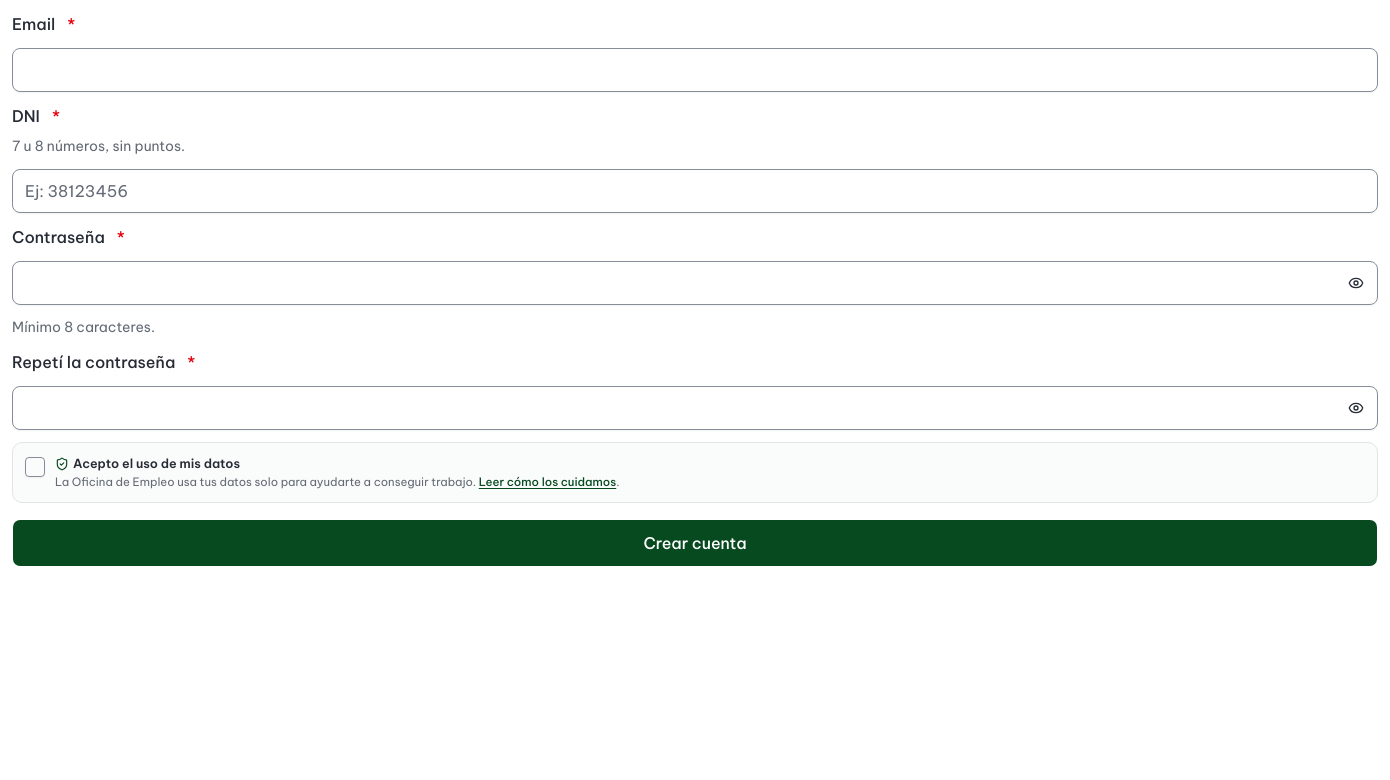
Test case: replaces the form with 'Revisá tu correo' and the email when the account must be activated
Step 1. Type "persona@ejemplo.com" into the field labelled "Email *" → x=695, y=70, box [12,48,1378,92]
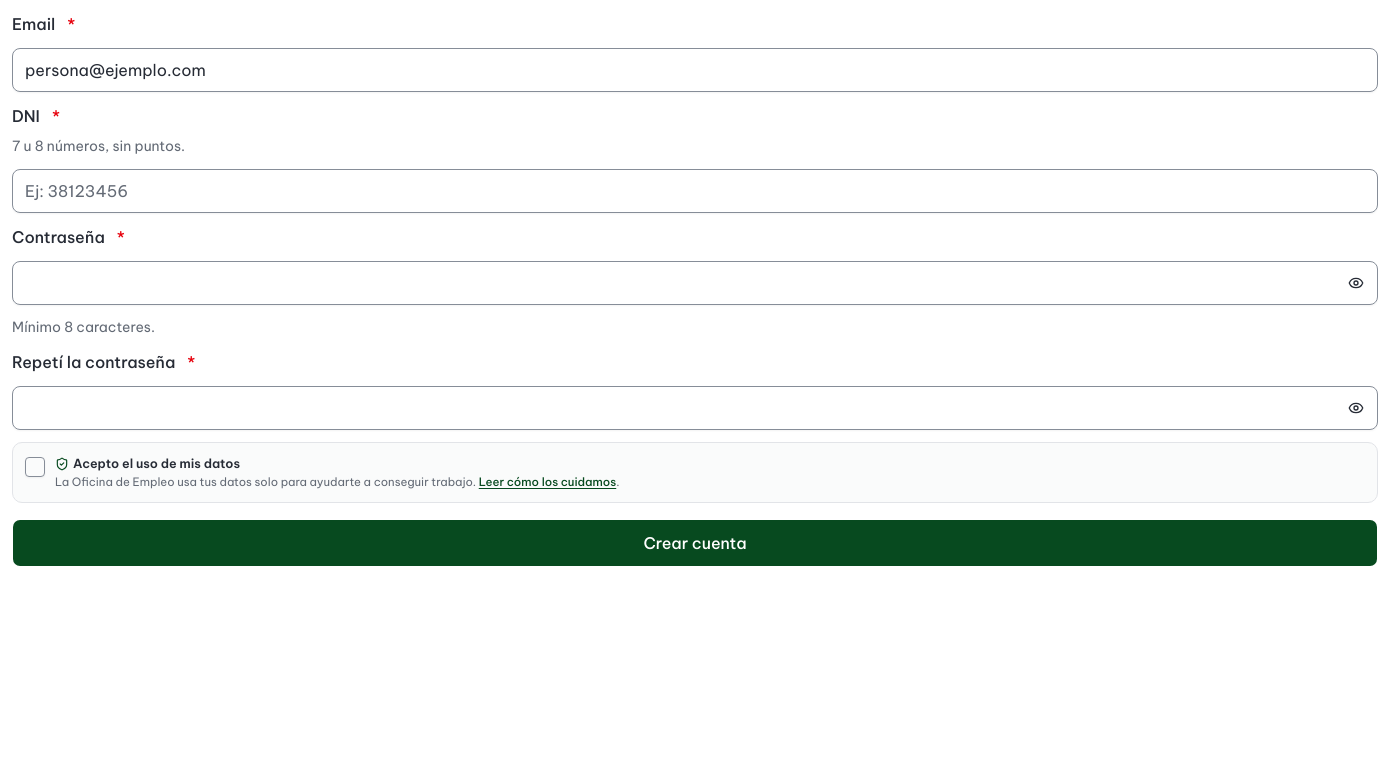
Step 2. Type "38123456" into the field labelled "DNI *" → x=695, y=191, box [12,169,1378,213]
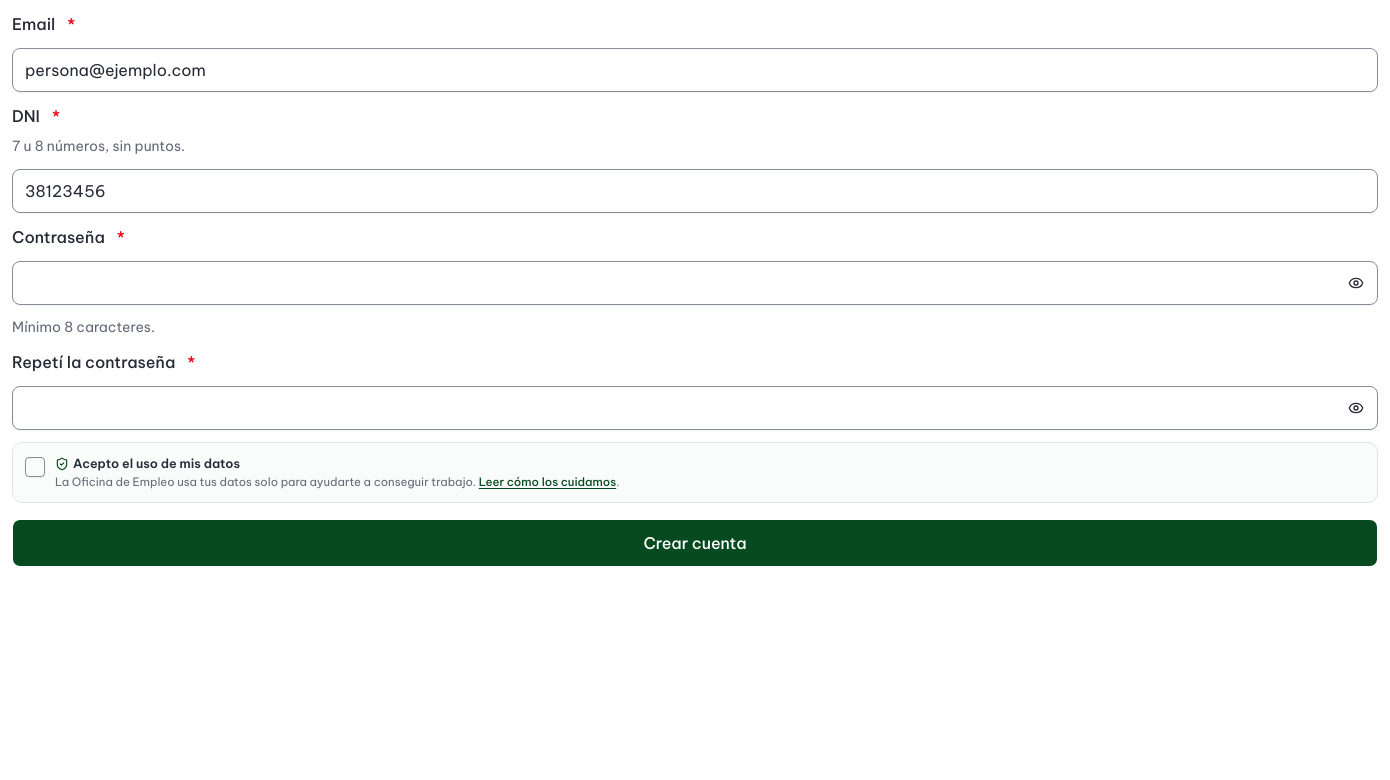
Step 3. Type "12345678" into the password field labelled "Contraseña *" → x=695, y=283, box [12,261,1378,305]
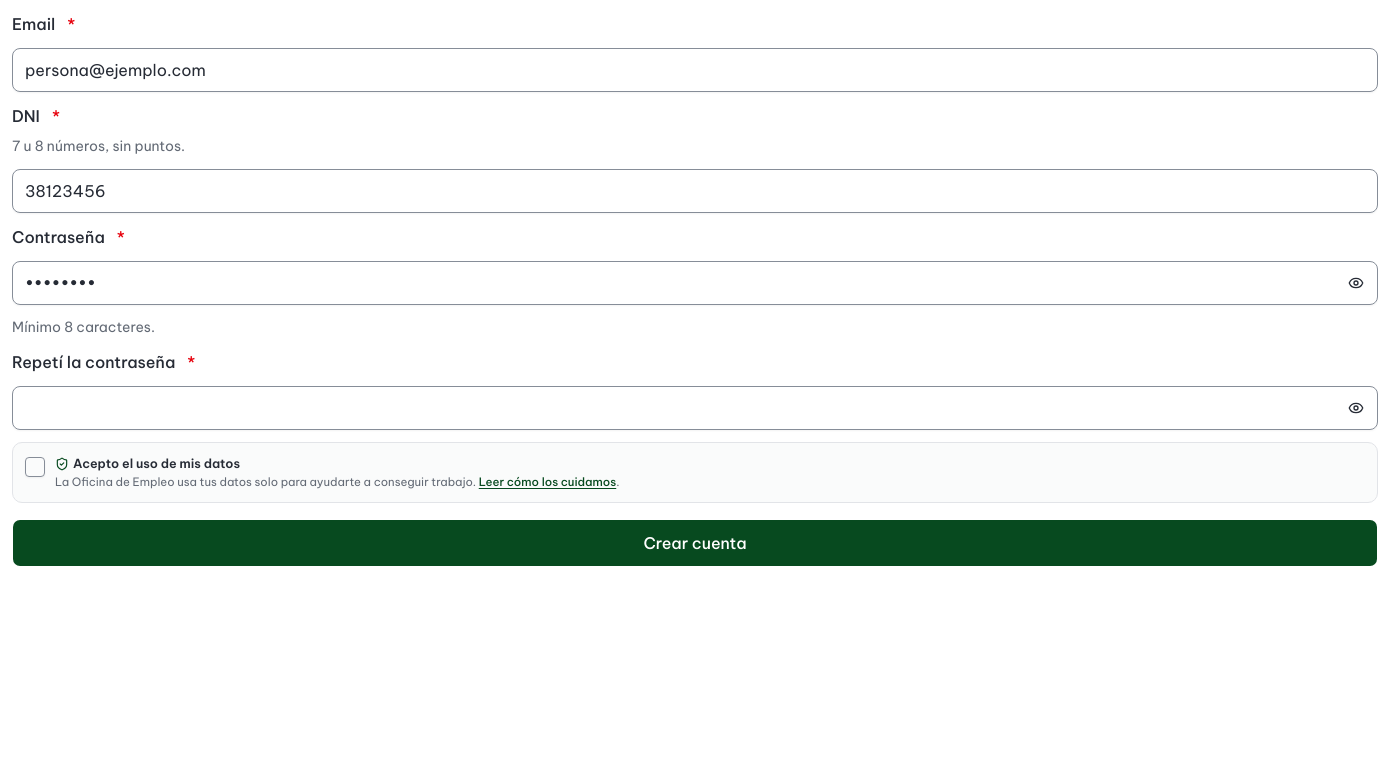
Step 4. Type "12345678" into the password field labelled "Repetí la contraseña *" → x=695, y=408, box [12,386,1378,430]
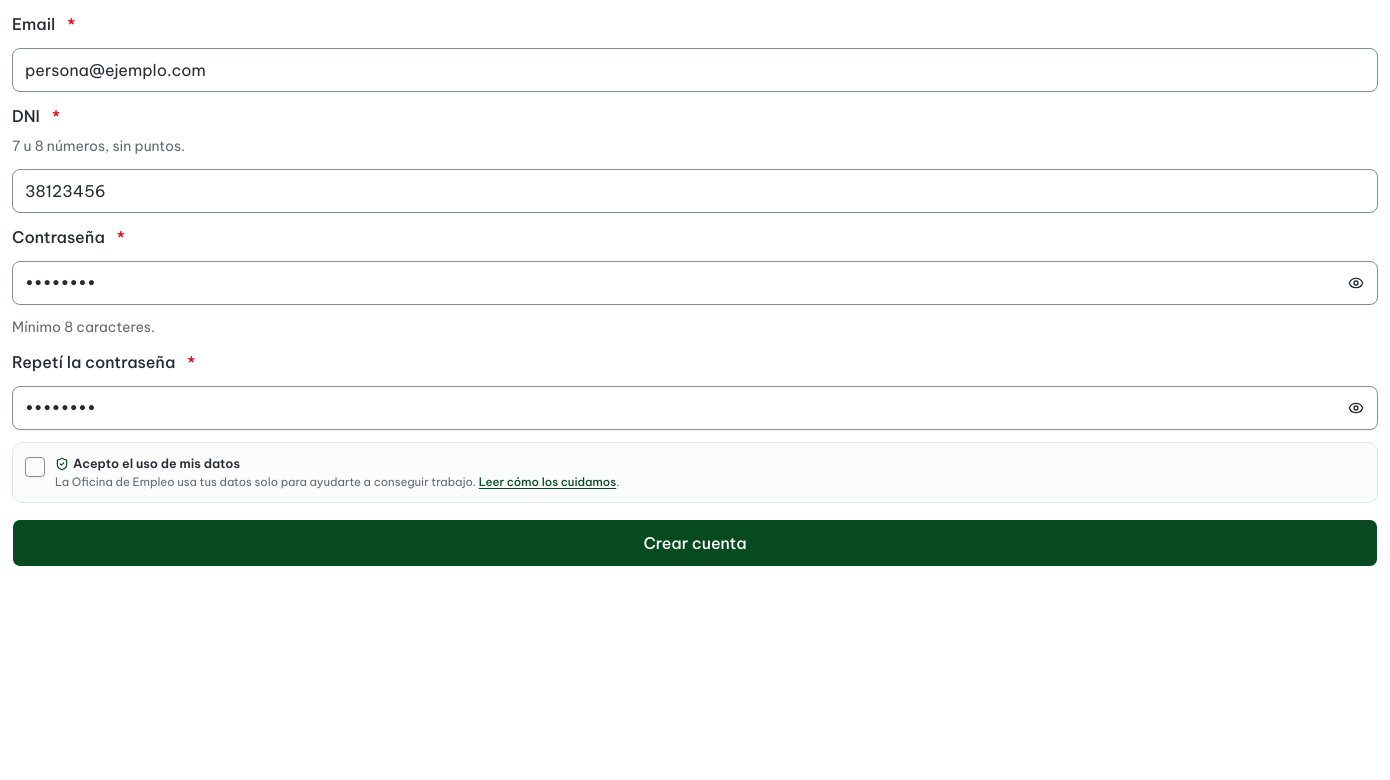
Step 5. Click the checkbox named "Acepto el uso de mis datos" → x=35, y=467, box [25,457,45,477]
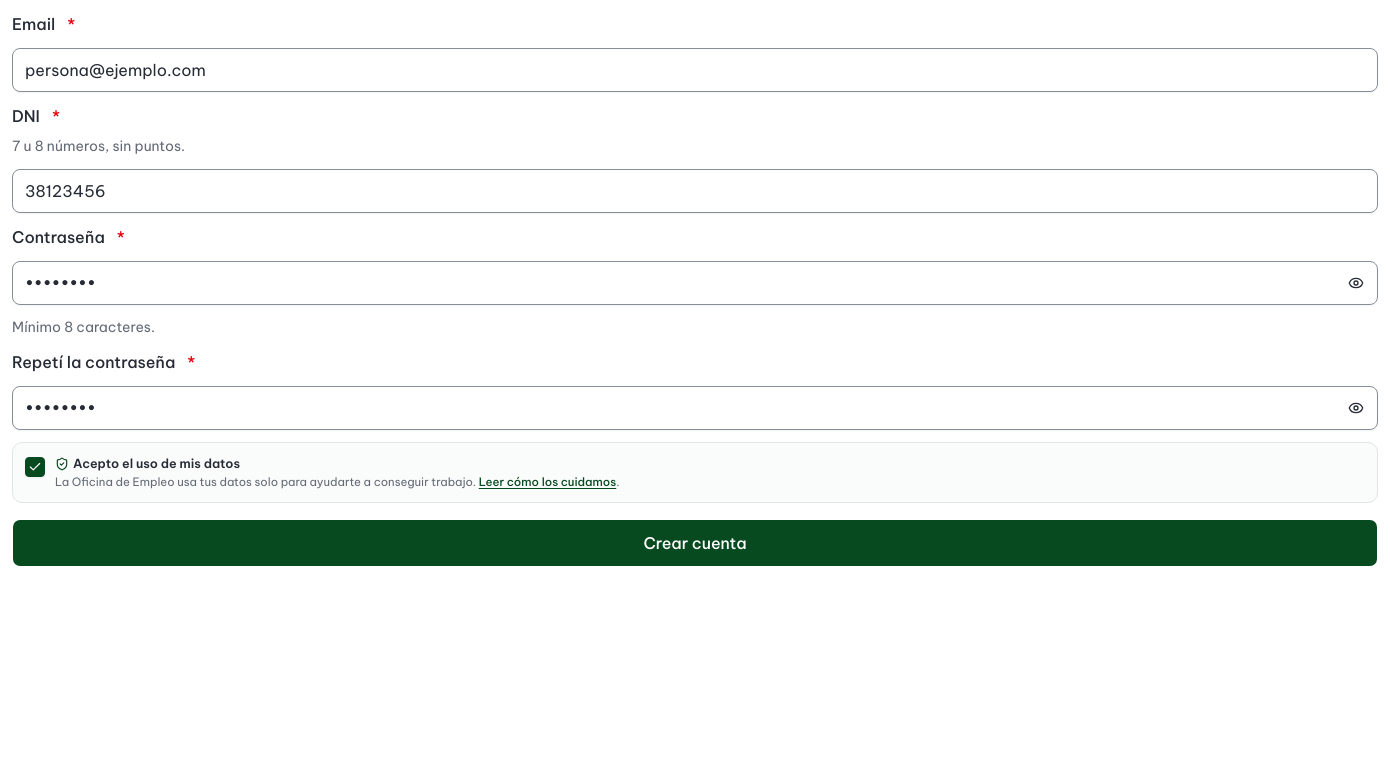
Step 6. Click the button "Crear cuenta" → x=695, y=543, box [12,519,1378,567]
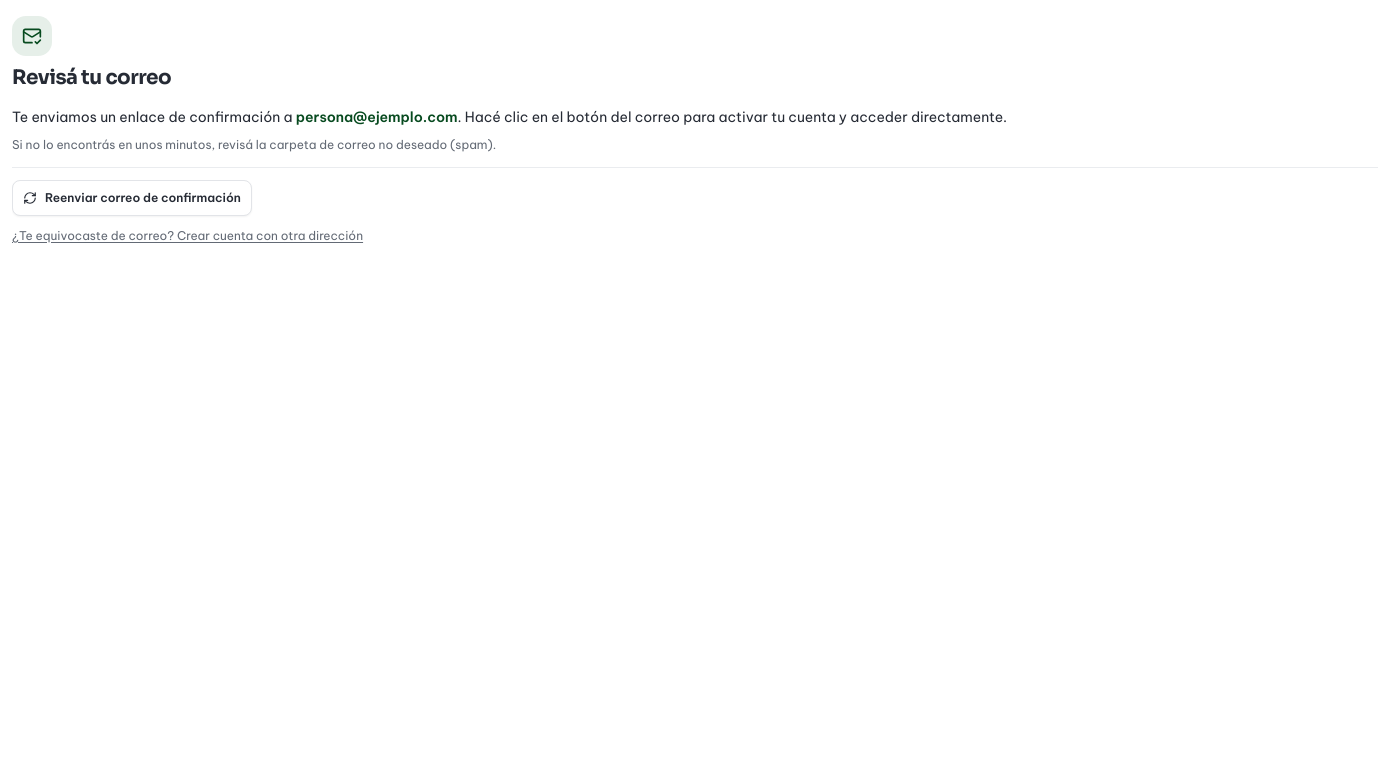
Now the heading "Revisá tu correo" is shown, box [12,64,171,92]
Now the text "persona@ejemplo.com" is shown, box [296,108,458,126]
